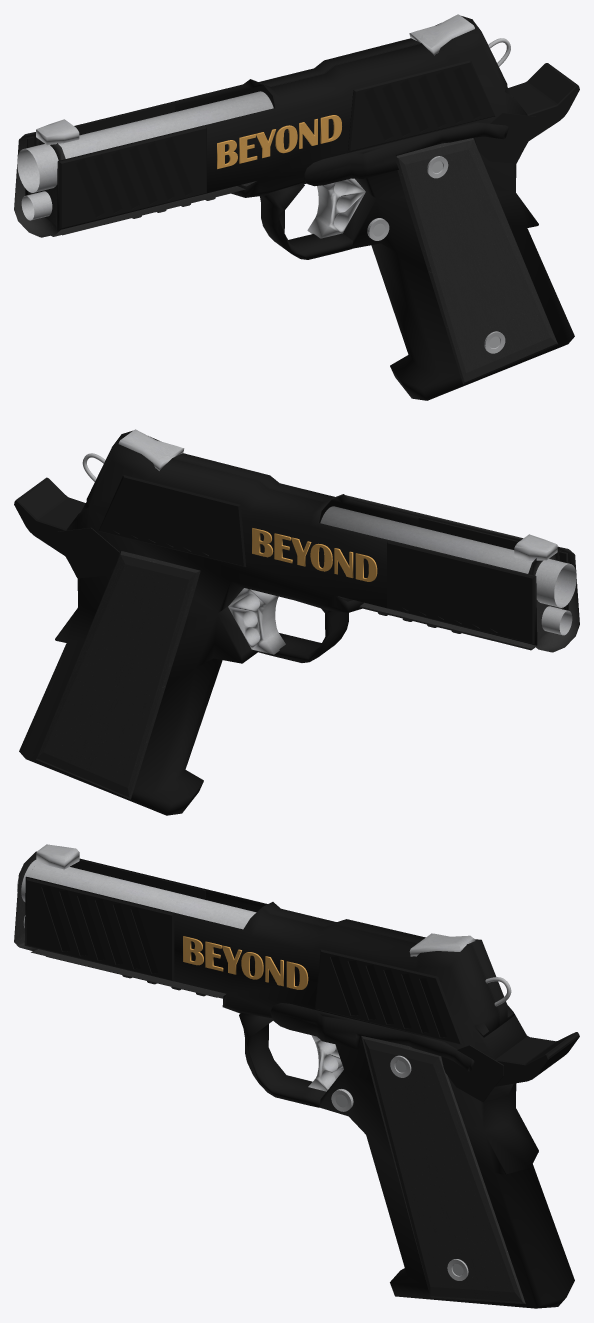
File: pistolet.glb
3 renders of one model, top to bottom at view 1: azimuth 30°, elevation 25°; view 2: azimuth 150°, elevation 25°; view 3: azimuth 330°, elevation 25°, orthographic.
Parts seen in each view (by area): view 1: Cube.012, Plane, Cube.002, Cube.022, Cylinder, Cube.034, Cube.014, Cube.013, Text, Plane.002, Cube.035, Cube.052 (+5 smaller); view 2: Cube.012, Plane, Cube.002, Cube.022, Cylinder, Cube.014, Text, Plane.002, Cube.035, Cube.013, Cube.052, Cube.020 (+4 smaller); view 3: Cube.012, Plane, Cube.002, Cube.022, Cylinder, Cube.034, Cube.013, Text, Cube.014, Cube.035, Cube.015, Plane.002 (+4 smaller).
Part boxes in pixels (x1=…): Cube.012: x1=25, y1=16, x2=574, y2=400; Plane: x1=396, y1=138, x2=557, y2=384; Cube.002: x1=27, y1=102, x2=206, y2=229; Cube.022: x1=348, y1=60, x2=494, y2=152; Cylinder: x1=17, y1=91, x2=273, y2=192; Cube.034: x1=304, y1=122, x2=508, y2=186; Cube.014: x1=508, y1=63, x2=579, y2=140; Cube.013: x1=260, y1=183, x2=352, y2=259; Text: x1=217, y1=115, x2=341, y2=169; Plane.002: x1=307, y1=178, x2=365, y2=238; Cube.035: x1=474, y1=112, x2=536, y2=163; Cube.052: x1=14, y1=132, x2=65, y2=237; Cube.012: x1=19, y1=430, x2=568, y2=815; Plane: x1=36, y1=551, x2=200, y2=799; Cube.002: x1=387, y1=517, x2=566, y2=644; Cube.022: x1=99, y1=475, x2=246, y2=566; Cylinder: x1=320, y1=506, x2=576, y2=607; Cube.014: x1=14, y1=477, x2=85, y2=555; Text: x1=252, y1=528, x2=377, y2=581; Plane.002: x1=228, y1=588, x2=285, y2=654; Cube.035: x1=57, y1=527, x2=119, y2=578; Cube.013: x1=258, y1=596, x2=348, y2=662; Cube.052: x1=528, y1=546, x2=579, y2=652; Cube.020: x1=118, y1=429, x2=184, y2=470; Cube.012: x1=24, y1=858, x2=574, y2=1308; Plane: x1=361, y1=1036, x2=525, y2=1304; Cube.002: x1=26, y1=859, x2=205, y2=981; Cube.022: x1=315, y1=949, x2=462, y2=1044; Cylinder: x1=17, y1=860, x2=256, y2=929; Cube.034: x1=271, y1=1003, x2=474, y2=1071; Cube.013: x1=239, y1=1013, x2=326, y2=1107; Text: x1=183, y1=936, x2=308, y2=989; Cube.014: x1=495, y1=1032, x2=579, y2=1086; Cube.035: x1=441, y1=1035, x2=528, y2=1102; Cube.015: x1=31, y1=949, x2=225, y2=998; Plane.002: x1=308, y1=1035, x2=343, y2=1091.
Size of the model in its own units: 4.76 by 3.1 by 0.6012.
4 materials, 3 textured.
